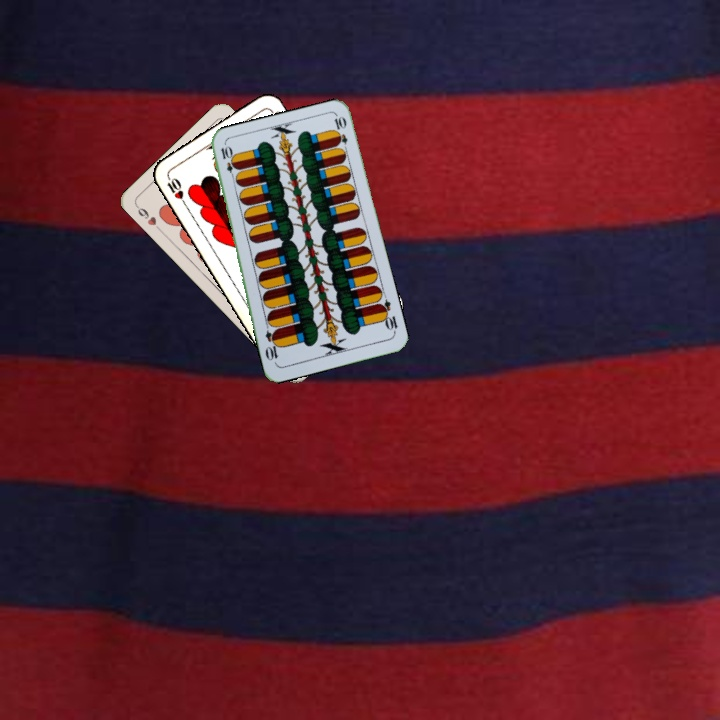E10: (375, 296, 400, 336), (217, 142, 238, 182)
H10: (163, 171, 189, 208)
H9: (132, 201, 164, 233)
